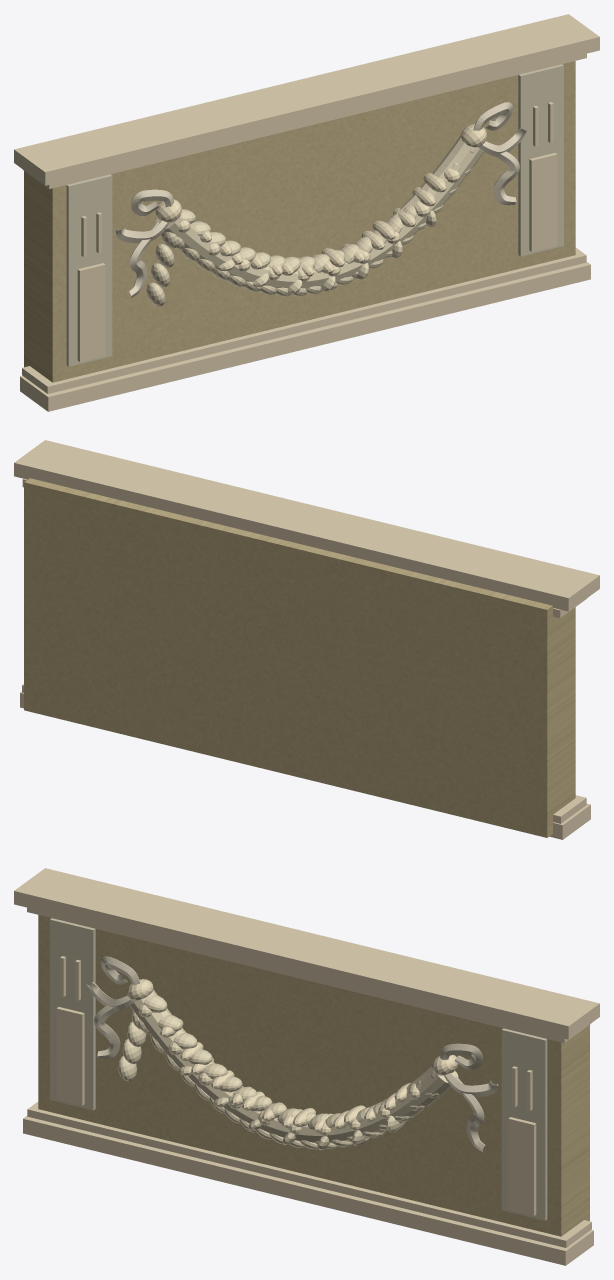
Rendered from east-hanyang-205-garland-parapet-near.glb.
3 renders of one model, top to bottom at view 1: azimuth 30°, elevation 25°; view 2: azimuth 150°, elevation 25°; view 3: azimuth 330°, elevation 25°, orthographic.
Visible parts, largest first — view 1: 东汉阳路205号花园住宅右翼女儿墙花环垂饰; view 2: 东汉阳路205号花园住宅右翼女儿墙花环垂饰; view 3: 东汉阳路205号花园住宅右翼女儿墙花环垂饰.
Part boxes in pixels (x1=…): 东汉阳路205号花园住宅右翼女儿墙花环垂饰: x1=14, y1=14, x2=599, y2=411; 东汉阳路205号花园住宅右翼女儿墙花环垂饰: x1=14, y1=440, x2=599, y2=839; 东汉阳路205号花园住宅右翼女儿墙花环垂饰: x1=14, y1=868, x2=599, y2=1265.
Bounding box in the file's own units: 2.8 × 1.17 × 0.396.
Materials: 6 (1 with a texture image).
